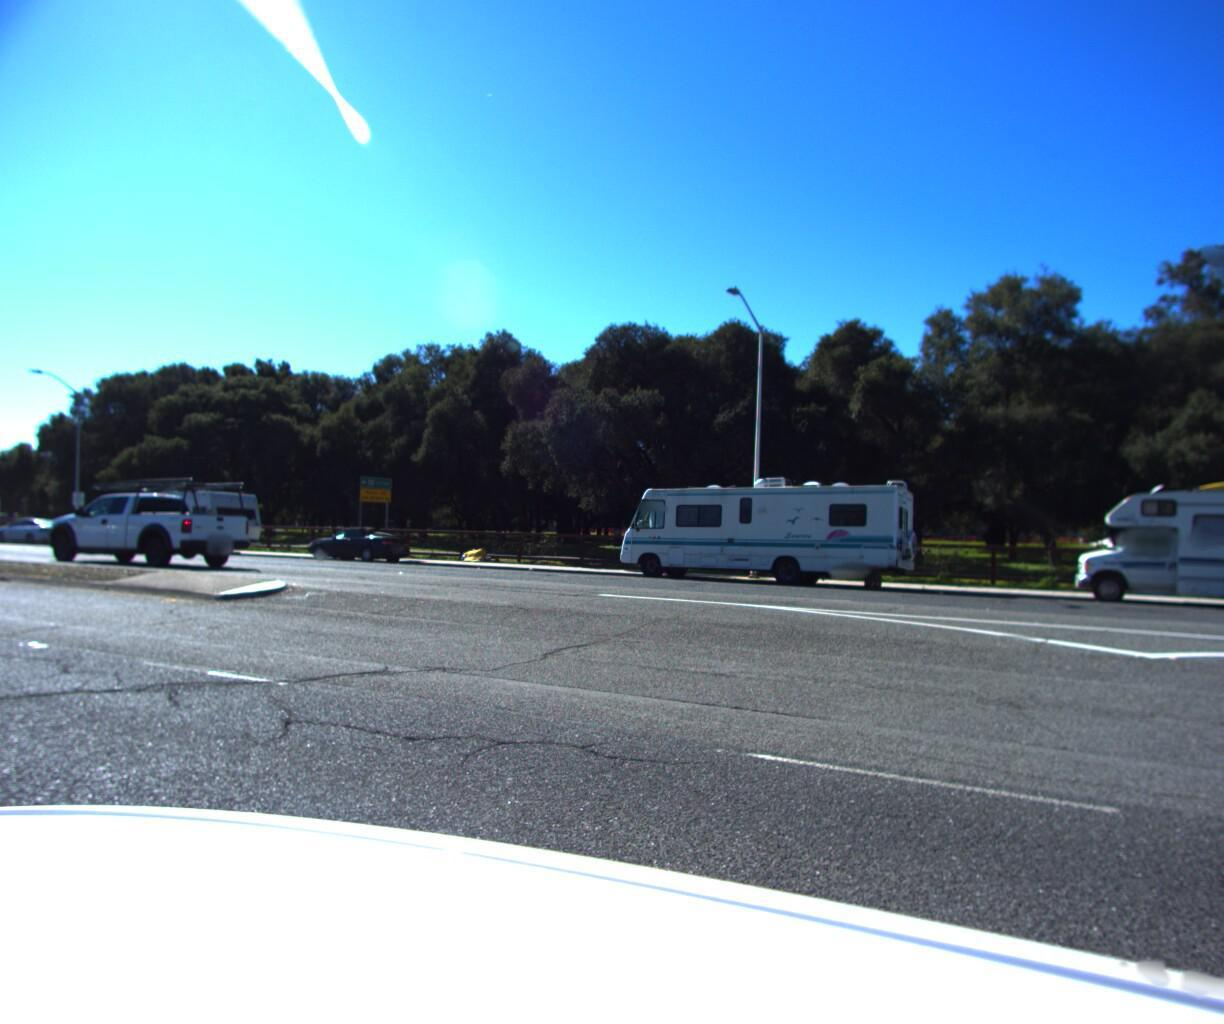car: (28, 478, 266, 574), (295, 526, 419, 569), (0, 521, 77, 550)
other_vehicle: (604, 469, 924, 598), (1070, 461, 1224, 624), (122, 490, 269, 560), (0, 491, 10, 548)
